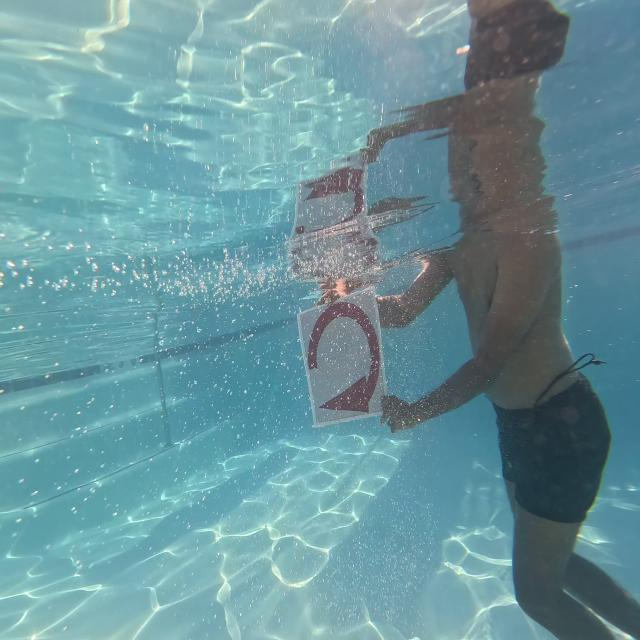red_side: (296, 306, 392, 424)
